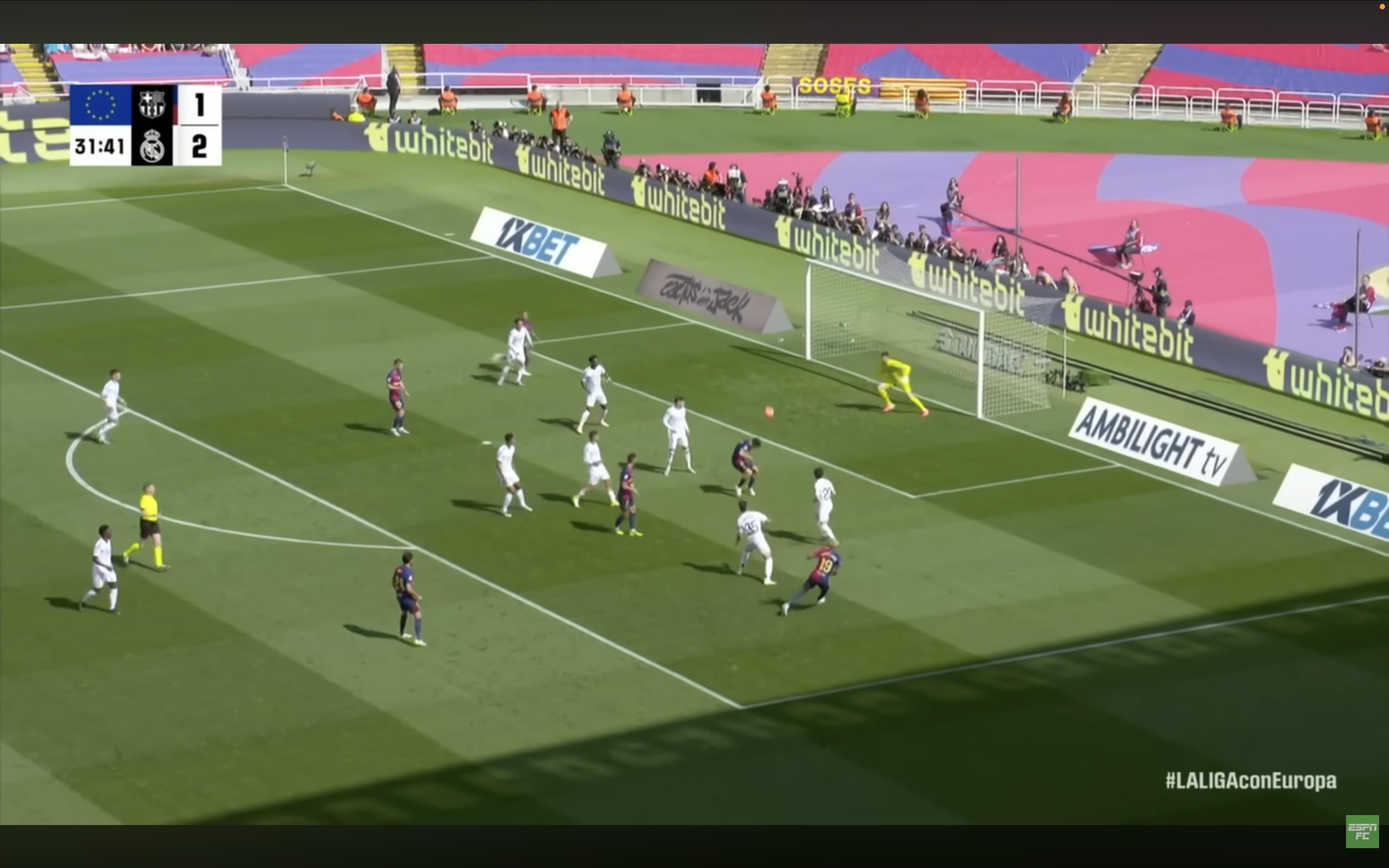ball: (762, 403, 778, 420)
goalkeeper: (877, 352, 929, 416)
player: (779, 547, 841, 615), (572, 432, 619, 507), (78, 525, 118, 613), (735, 501, 775, 585), (391, 552, 425, 646), (496, 434, 533, 517), (575, 355, 611, 434), (662, 396, 694, 475), (497, 317, 532, 385), (615, 453, 642, 537), (96, 369, 125, 444), (813, 468, 838, 546), (386, 360, 409, 436), (731, 438, 761, 496), (519, 311, 538, 375)
referee: (122, 484, 167, 571)
